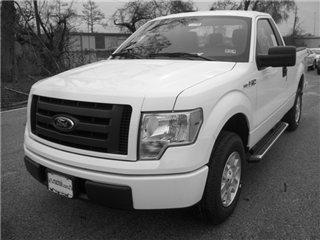car: (23, 11, 307, 225)
